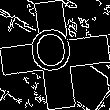O_S: (31, 27, 79, 83)
